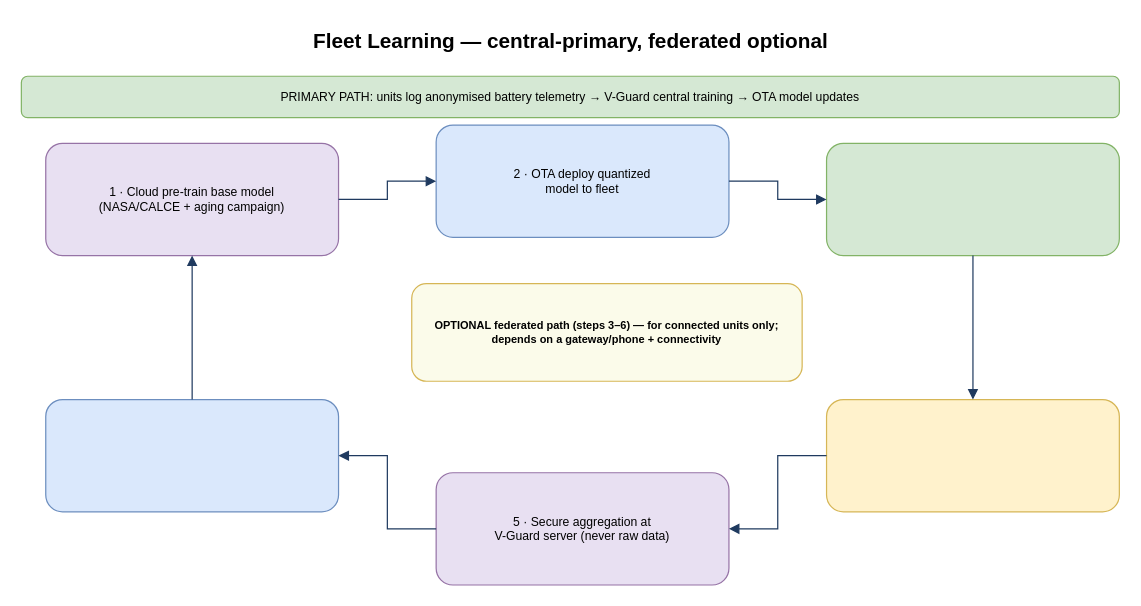
This 1141x606 diagram has some shape labels left out. The shapes that lost their labels are listed below. From the top down, each one's centre as x and y in pixels, then its label:
(972,199): 3 · On-device inference + (optional) local personalization (gateway / phone)
(192,455): 6 · New global model → back to deploy
(972,455): 4 · Local update ΔW + DP noise (ε≈4, δ=1e-5); tens of KB
